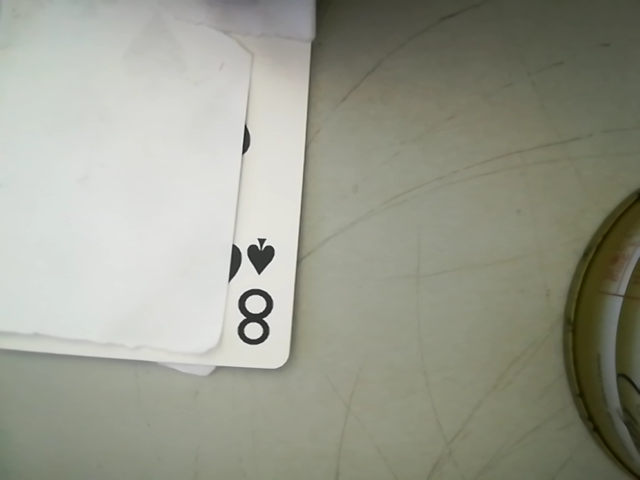ht 8: (214, 225, 290, 361)
